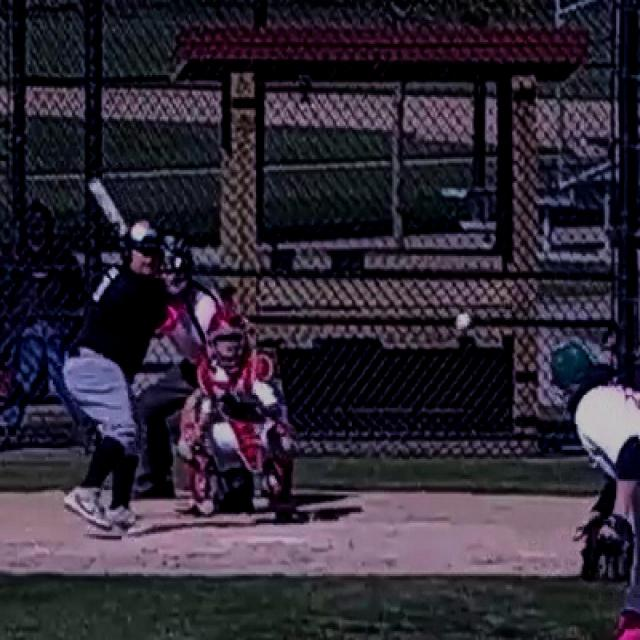baseball: (458, 315, 470, 329)
